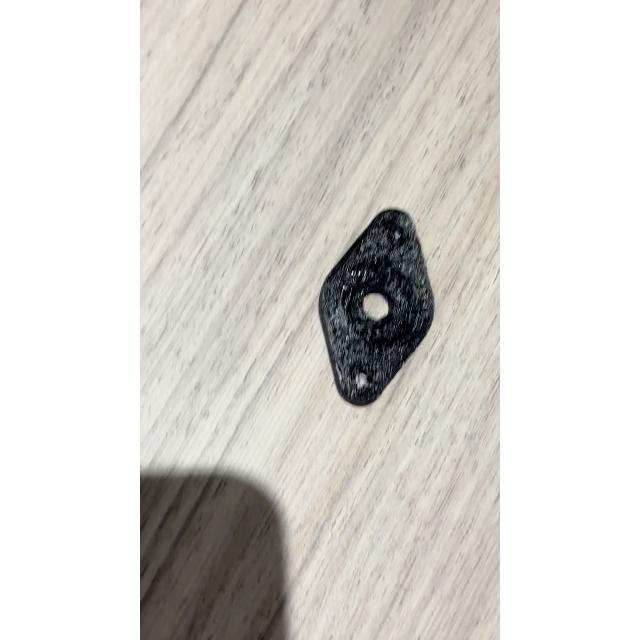Pieza2: (296, 190, 436, 416)
